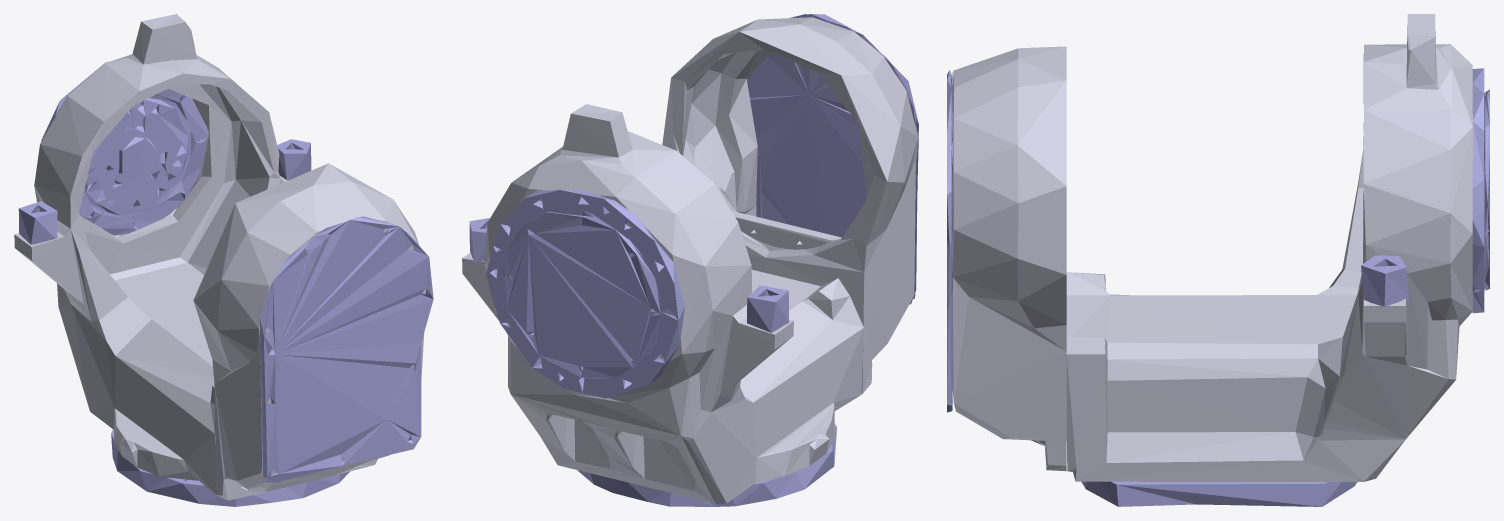
3 views of the same model, side by side, from view 1: azimuth 30°, elevation 25°; view 2: azimuth 150°, elevation 25°; view 3: azimuth 270°, elevation 25° (orthographic). The views are drawn at different scales.
Visible parts, largest first — view 1: J7; view 2: J7; view 3: J7.
Part boxes in pixels (left/top/right/bottom): J7: left=14, top=14, right=433, bottom=506; J7: left=462, top=14, right=918, bottom=506; J7: left=947, top=14, right=1489, bottom=506.
Size of the model in its own units: 0.2743 by 0.3716 by 0.3355.
